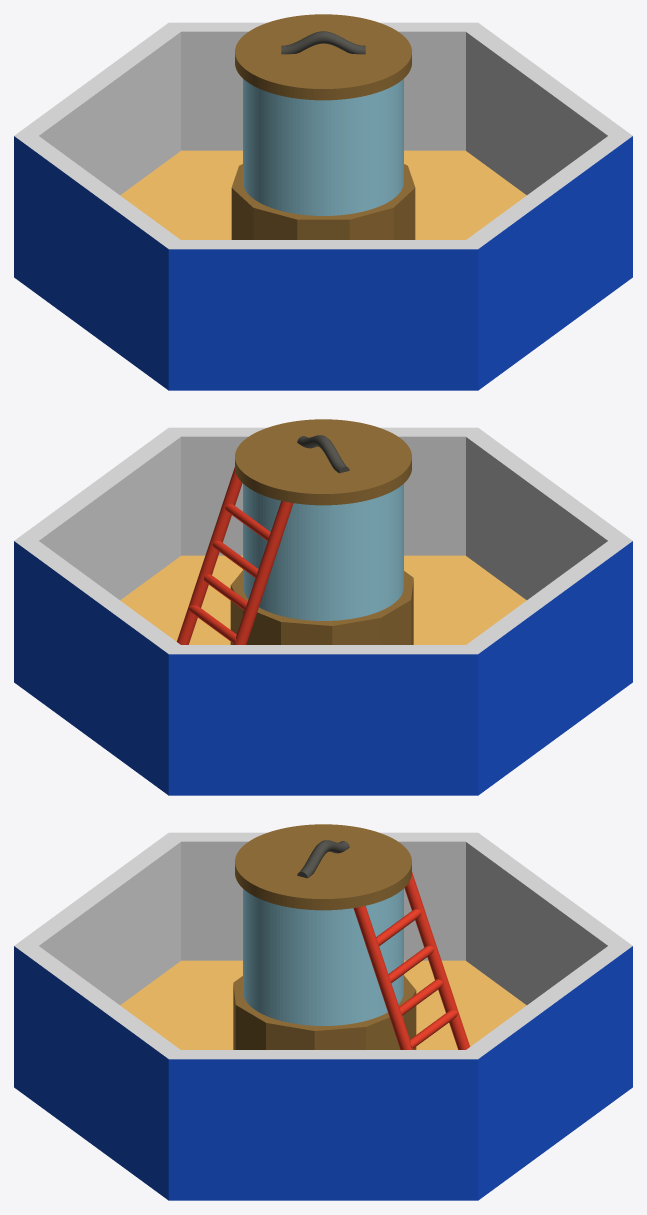
The model's file is honeyFactory.fbx.
The picture shows the model from 3 angles, top to bottom: view 1: azimuth 30°, elevation 25°; view 2: azimuth 150°, elevation 25°; view 3: azimuth 270°, elevation 25°; orthographic projection.
Visible parts, largest first — view 1: honeycomb, honeyFactory; view 2: honeycomb, honeyFactory; view 3: honeycomb, honeyFactory.
Boxes of the visible parts, box(x1,y1,x2,y2) form: honeycomb: box(14, 22, 632, 390); honeyFactory: box(231, 14, 415, 239); honeycomb: box(14, 427, 632, 795); honeyFactory: box(177, 419, 413, 644); honeycomb: box(14, 832, 632, 1200); honeyFactory: box(233, 824, 469, 1049).
Size of the model in its own units: 86.6 by 43.76 by 100.
